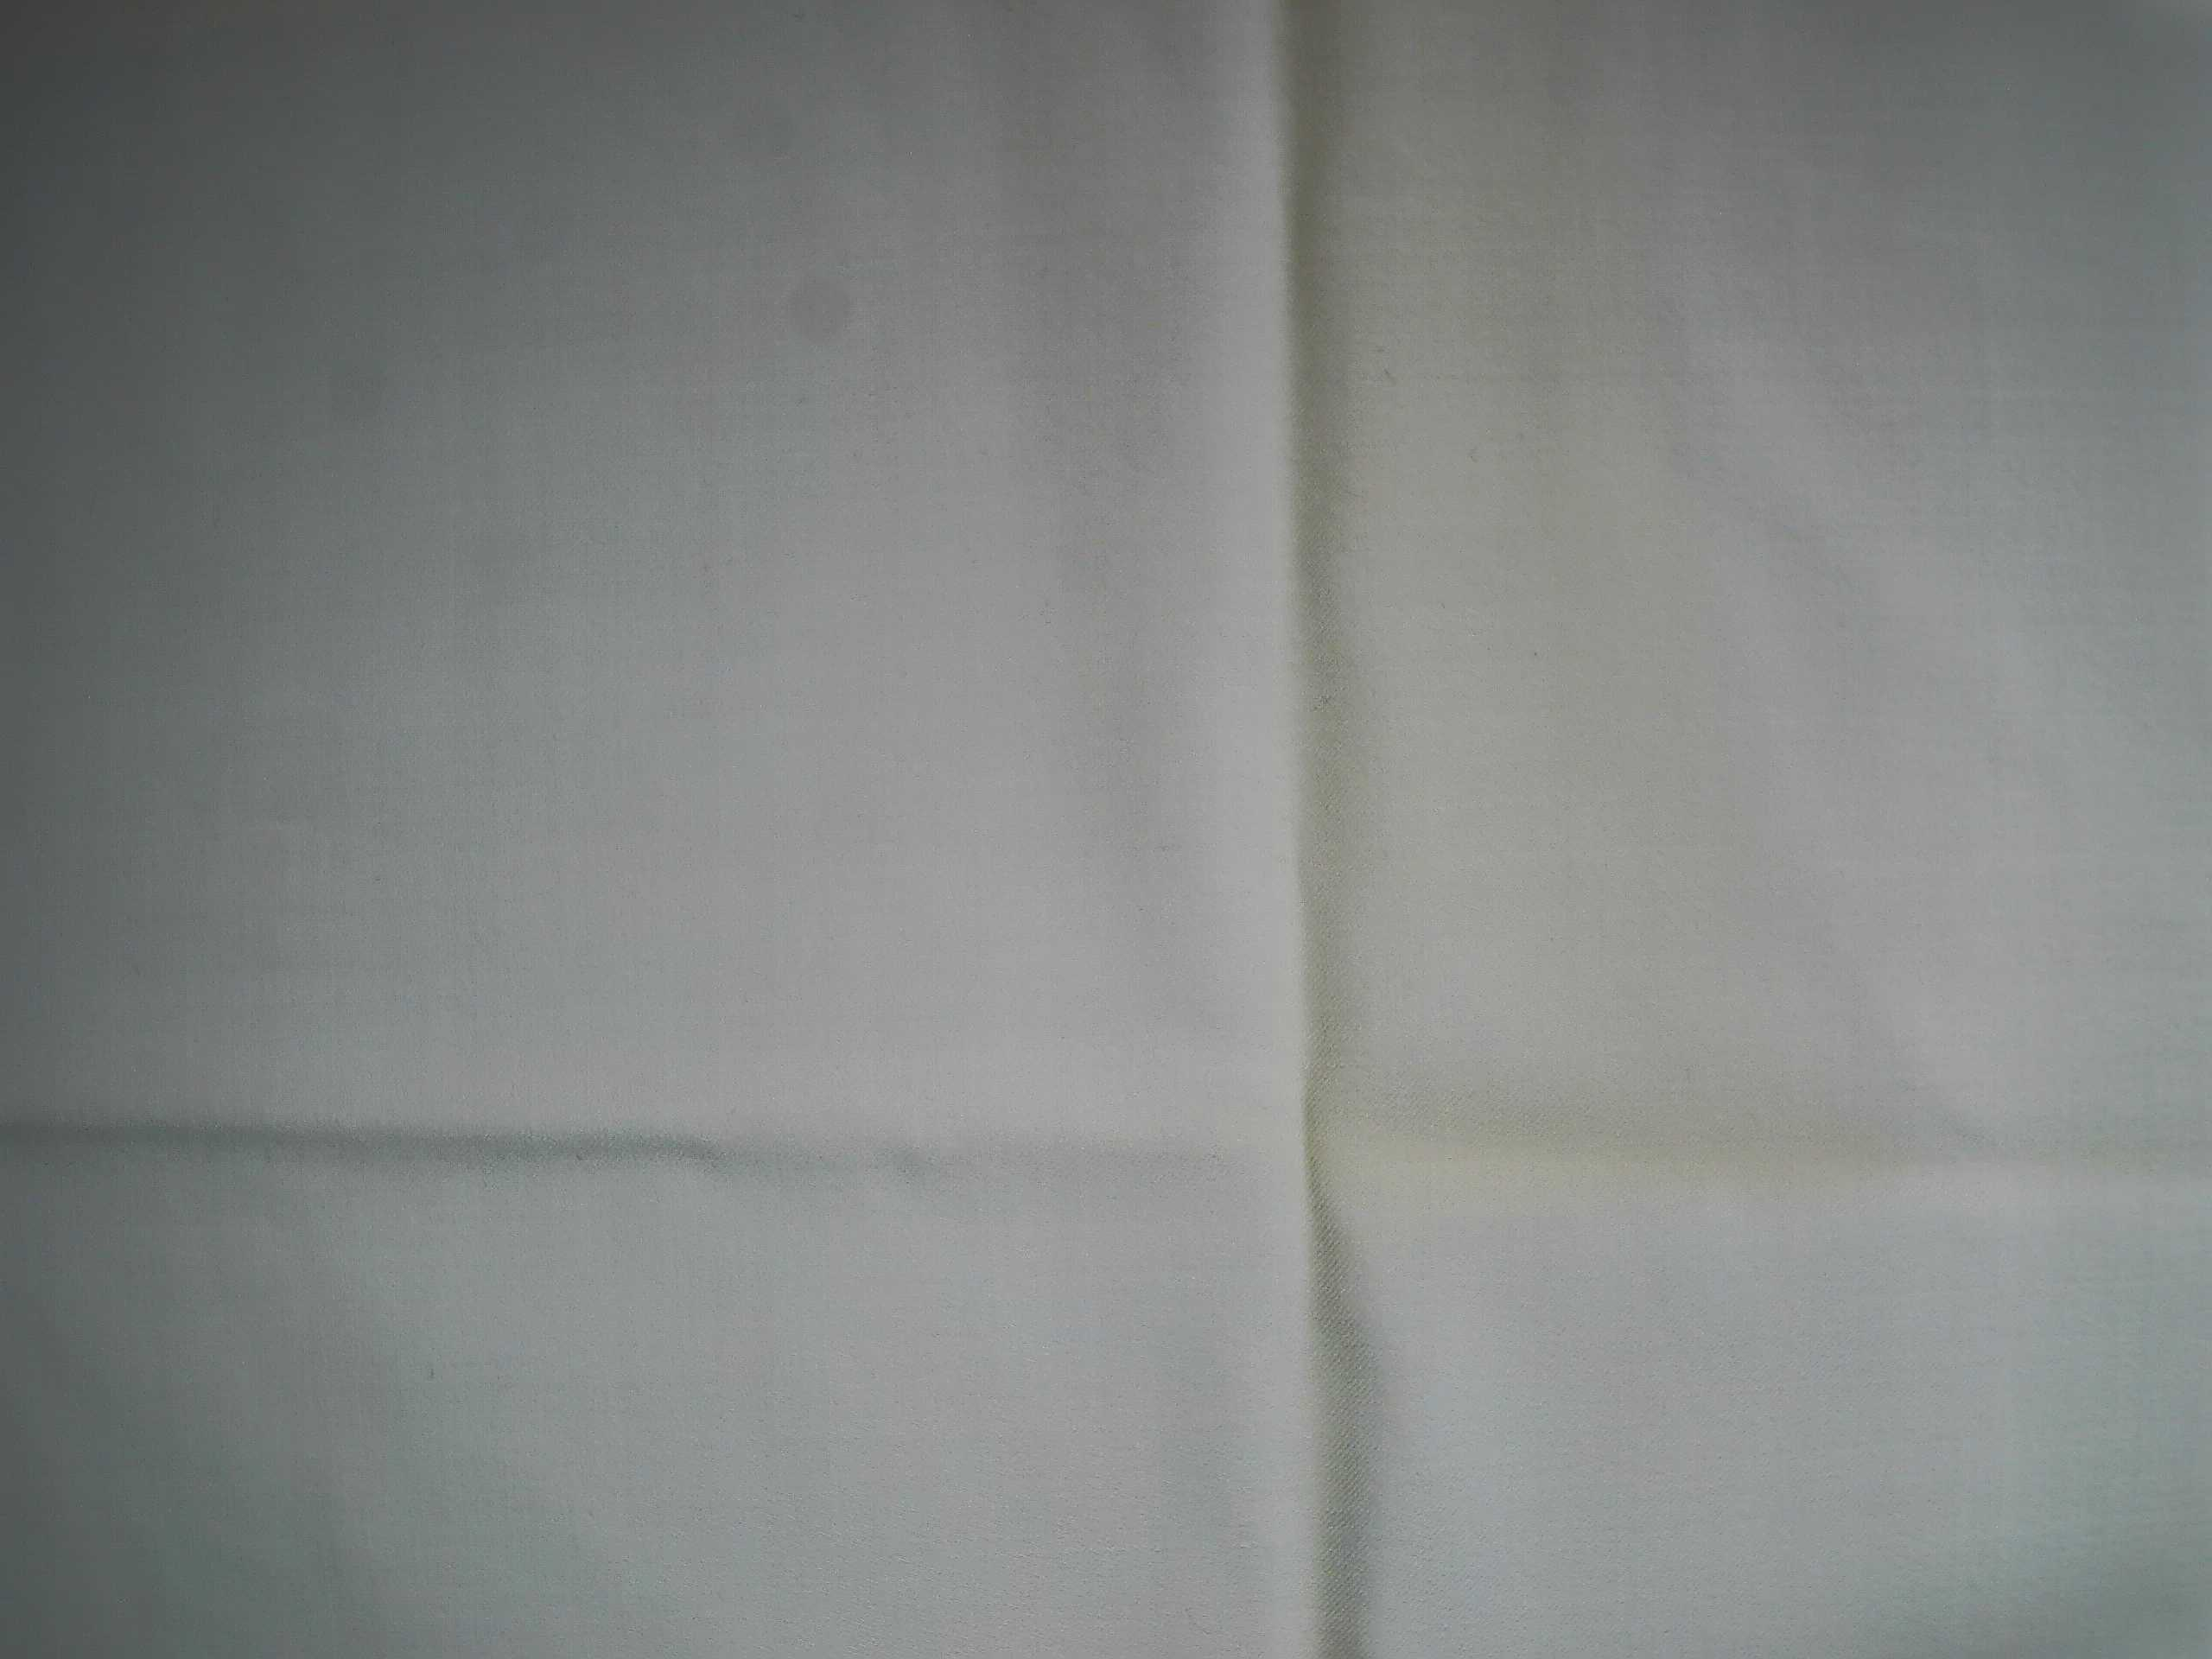stains: (1242, 107, 1968, 1235)
